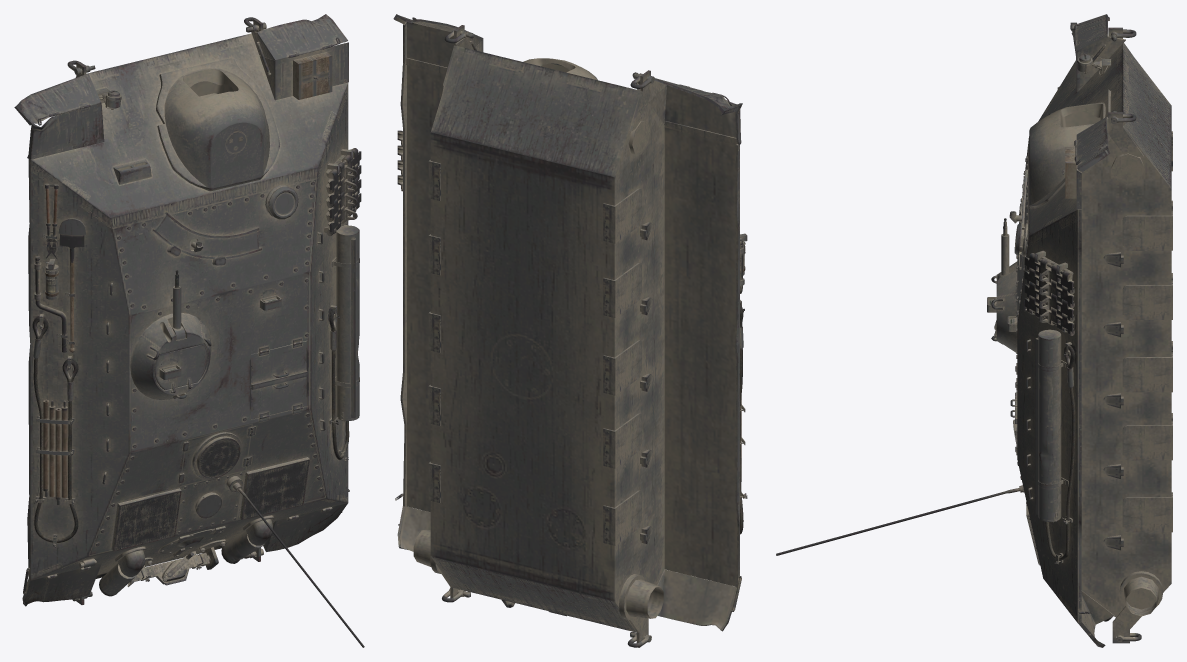
File: Hull.glb
3 renders of one model, left to right at view 1: azimuth 30°, elevation 25°; view 2: azimuth 150°, elevation 25°; view 3: azimuth 270°, elevation 25°, orthographic. The views are drawn at different scales.
Parts seen in each view (by area): view 1: set_0_group_0; view 2: set_0_group_0; view 3: set_0_group_0.
Part boxes in pixels (bbox=[...]): set_0_group_0: bbox=[14, 14, 364, 647]; set_0_group_0: bbox=[393, 14, 747, 647]; set_0_group_0: bbox=[776, 14, 1172, 647].
Bounding box in the file's own units: 2.91 × 4.54 × 3.08.
1 material, 1 textured.
